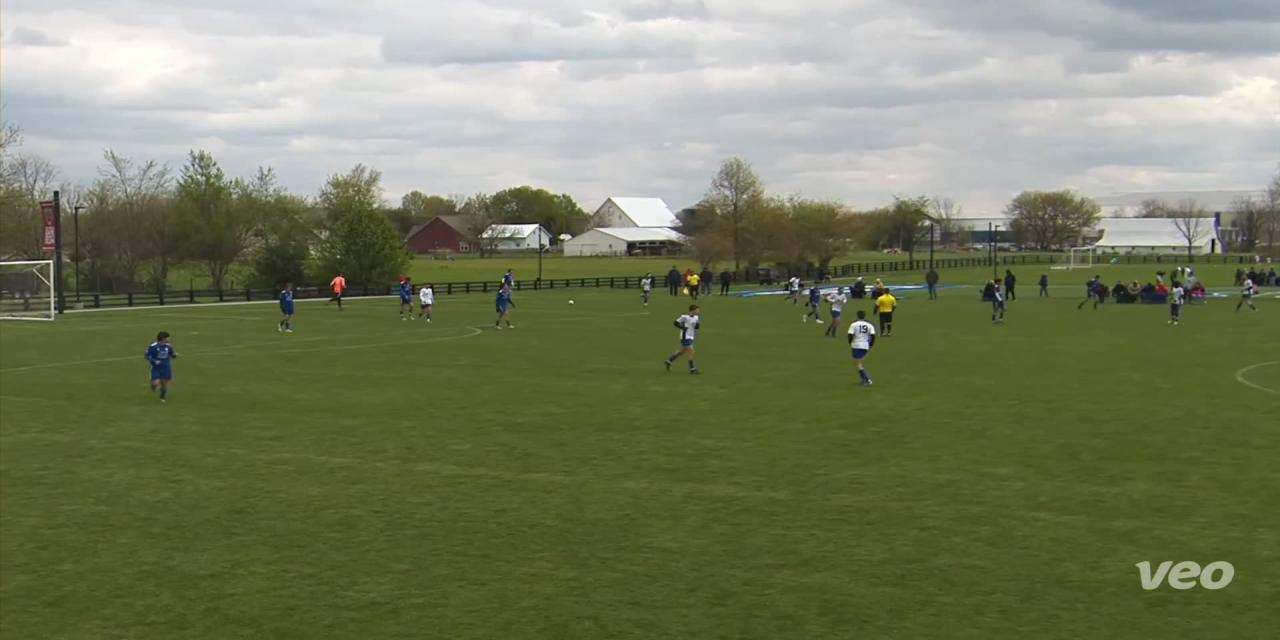goal: (5, 255, 70, 330)
sports ball: (558, 294, 580, 308)
